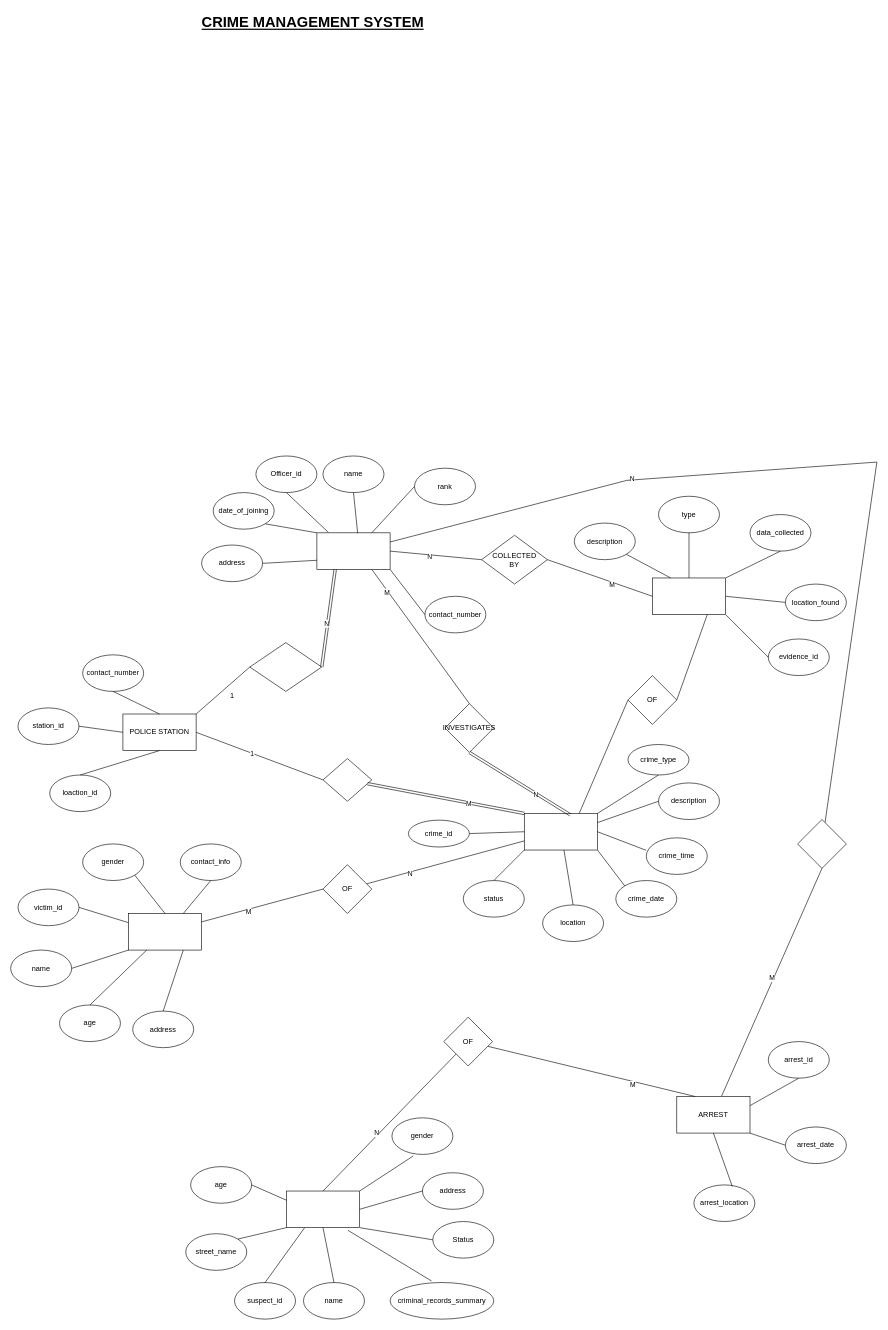
Some shapes in this 888 by 1330 pixel diagram are drawn without their labels. The shapes that lost their labels are listed below. From the top down, each one's centre as x and y in pixels, then its label:
point (353, 550): POLICE_OFFICER
point (689, 596): EVIDENCE
point (285, 666): ASSIGNEMENT
point (347, 779): ASSIGNED
point (560, 831): CRIME
point (821, 843): MADE BY
point (165, 931): VICTIM
point (323, 1209): SUSPECT
